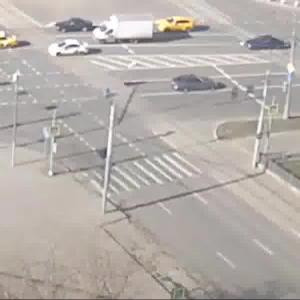car: (97, 19, 154, 51), (174, 72, 237, 99), (239, 32, 296, 59), (153, 15, 199, 37), (51, 15, 94, 37), (48, 42, 94, 61), (1, 30, 22, 48)
